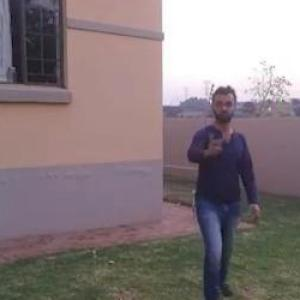takeoff-hand: (197, 120, 230, 162)
